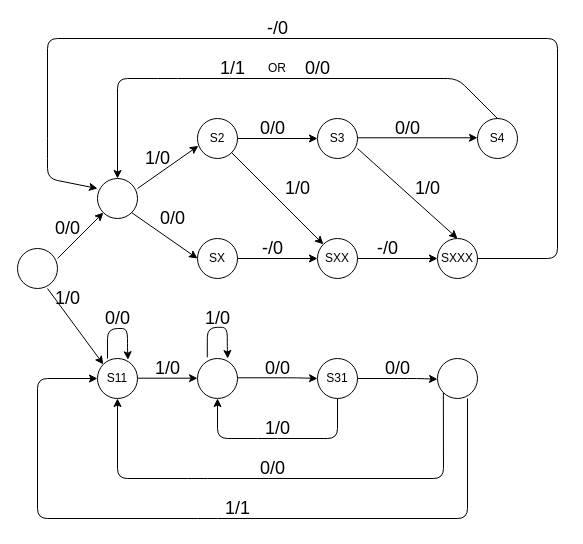
This 583x544 diagram has some shape labels left out. The centre of each missing label's shape, as x and y in pixels:
"S0" goes at point (37, 268).
"S1" goes at point (117, 198).
"S21" goes at point (217, 378).
"S41" goes at point (457, 378).
